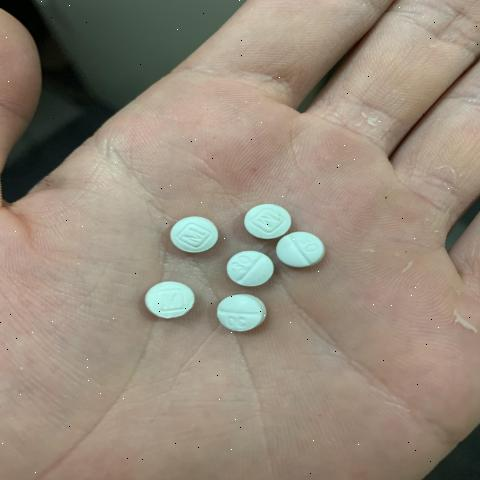Pill: (127, 267, 213, 342), (211, 287, 287, 347), (279, 230, 344, 282), (164, 205, 222, 261), (240, 193, 300, 246), (221, 248, 280, 287)
